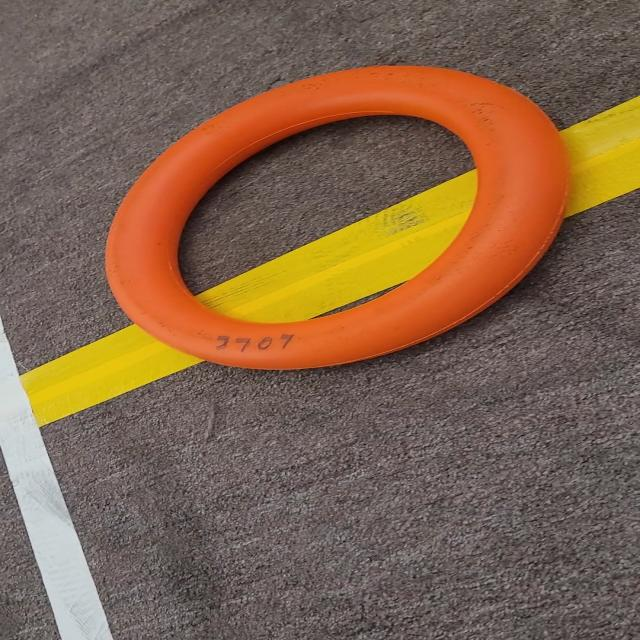note: (93, 54, 636, 386)
